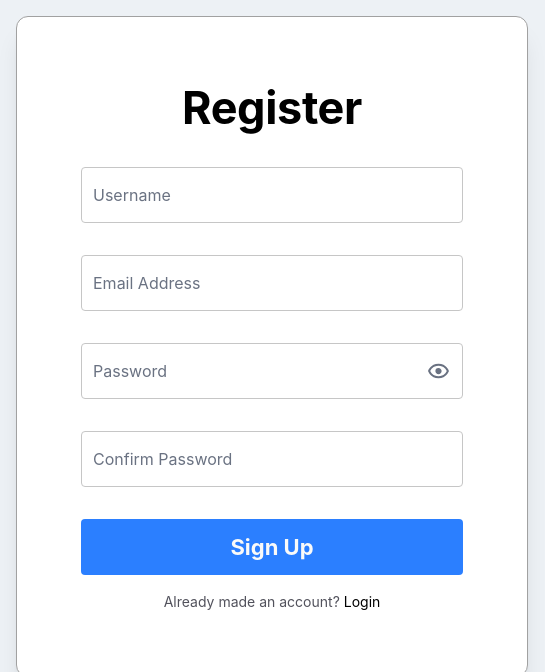
Scenario: Registration Form › disables the sign up button when the user enters a username < 3 chars long
This screenshot has width=545, height=672.
Type "te" into the field labelled "Username". click: (272, 195)
box: [81,167,463,223]
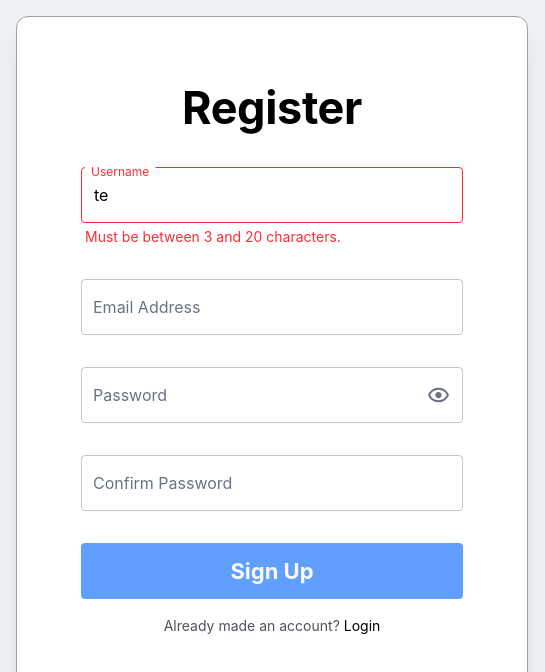
Expected: the button is disabled, [81,543,463,599]
